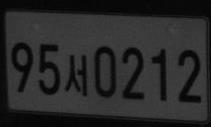0: (92, 45, 117, 98)
1: (150, 47, 173, 101)
2: (177, 47, 202, 102), (121, 45, 145, 100)
5: (37, 42, 61, 96)
9: (10, 40, 33, 94)
서: (64, 54, 88, 96)
